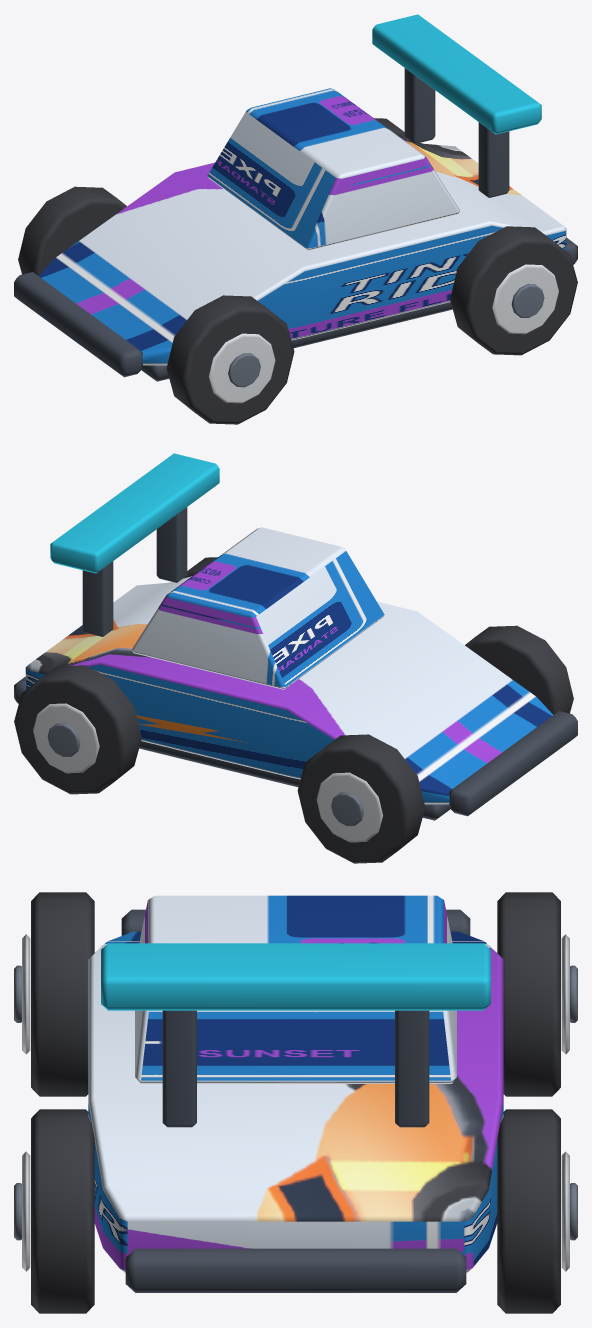
The picture shows the model from 3 angles, top to bottom: view 1: azimuth 30°, elevation 25°; view 2: azimuth 150°, elevation 25°; view 3: azimuth 270°, elevation 25°; orthographic projection. The views are drawn at different scales.
Parts seen in each view (by area): view 1: FF-01_connected_shell, FF-01_cabin, Tire, Tire.002, rear airfoil, Tire.001, front bumper, Rim, Rim.002, wing support, wing support.001, underbody (+2 smaller); view 2: FF-01_connected_shell, FF-01_cabin, Tire.001, Tire.003, rear airfoil, Tire, front bumper, Rim.001, Rim.003, wing support.001, wing support, underbody (+2 smaller); view 3: FF-01_connected_shell, FF-01_cabin, rear airfoil, rear bumper, Tire.002, Tire.003, Tire, Tire.001, wing support, wing support.001, Rim, Rim.001 (+3 smaller).
Part boxes in pixels (box(x1,y1,x2,y2)): FF-01_connected_shell: box(39, 137, 566, 365); FF-01_cabin: box(207, 88, 459, 250); Tire: box(166, 295, 294, 424); Tire.002: box(450, 226, 577, 355); rear airfoil: box(372, 14, 541, 134); Tire.001: box(18, 186, 126, 275); front bumper: box(14, 272, 142, 377); Rim: box(209, 333, 275, 403); Rim.002: box(492, 264, 558, 334); wing support: box(478, 122, 509, 197); wing support.001: box(404, 68, 435, 143); underbody: box(141, 302, 452, 381); FF-01_connected_shell: box(25, 576, 552, 804); FF-01_cabin: box(132, 527, 384, 689); Tire.001: box(297, 734, 425, 863); Tire.003: box(14, 665, 141, 794); rear airfoil: box(50, 453, 219, 573); Tire: box(465, 625, 573, 714); front bumper: box(449, 711, 577, 816); Rim.001: box(316, 772, 382, 842); Rim.003: box(33, 703, 99, 773); wing support.001: box(82, 561, 113, 636); wing support: box(156, 507, 187, 582); underbody: box(139, 741, 450, 820); FF-01_connected_shell: box(88, 931, 503, 1273); FF-01_cabin: box(135, 895, 456, 1083); rear airfoil: box(101, 943, 490, 1010); rear bumper: box(125, 1248, 466, 1292); Tire.002: box(31, 1109, 94, 1313); Tire.003: box(497, 1109, 560, 1313); Tire: box(31, 892, 94, 1096); Tire.001: box(497, 892, 560, 1096); wing support: box(162, 1010, 196, 1127); wing support.001: box(395, 1010, 429, 1127); Rim: box(22, 934, 30, 1054); Rim.001: box(561, 934, 569, 1054).
Size of the model in its own units: 342 by 162 by 231.
